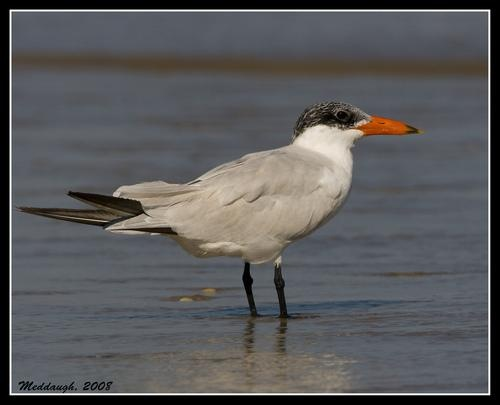bird: (16, 99, 420, 320)
